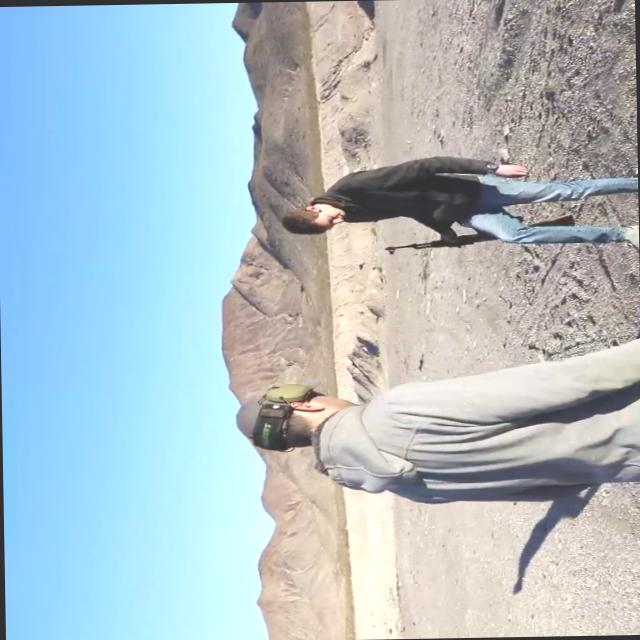long weapon: (378, 207, 574, 269)
